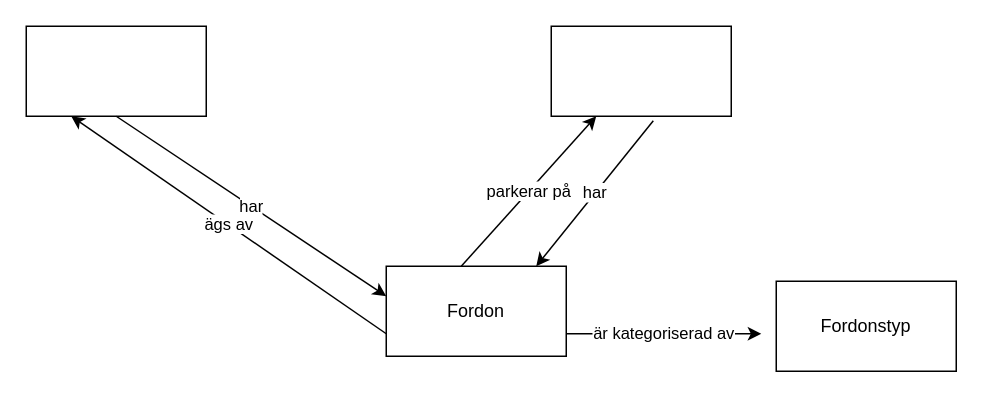
Image size: 983x398. Some labels were removed from this diagram. The centre of each missing label's shape, as x and y in pixels:
"Medlem" goes at pixel 115 70.
"Parkeringsplats" goes at pixel 640 70.
